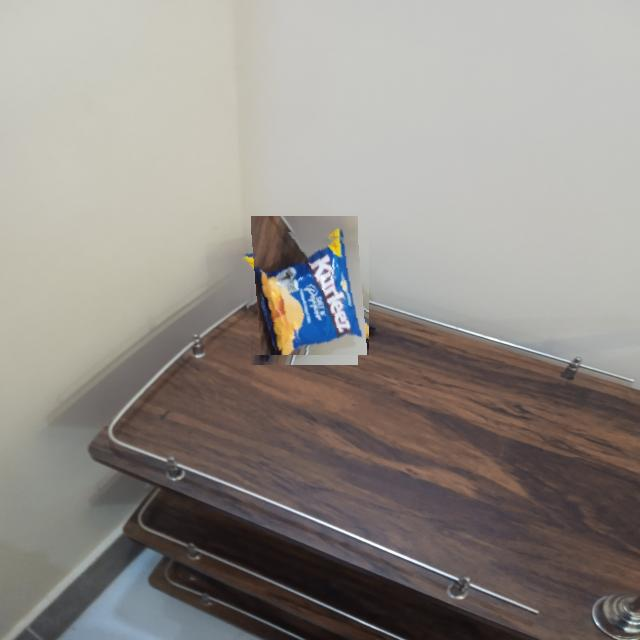Plastic: (240, 227, 369, 355)
